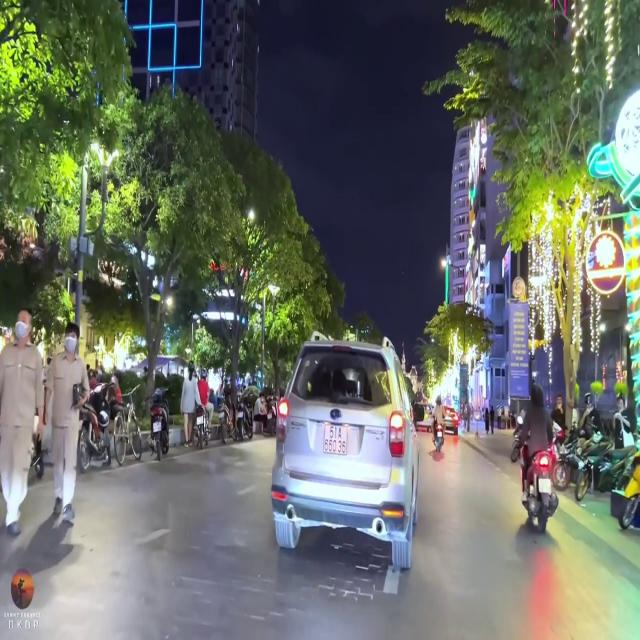bien_trang: (322, 426, 348, 456)
